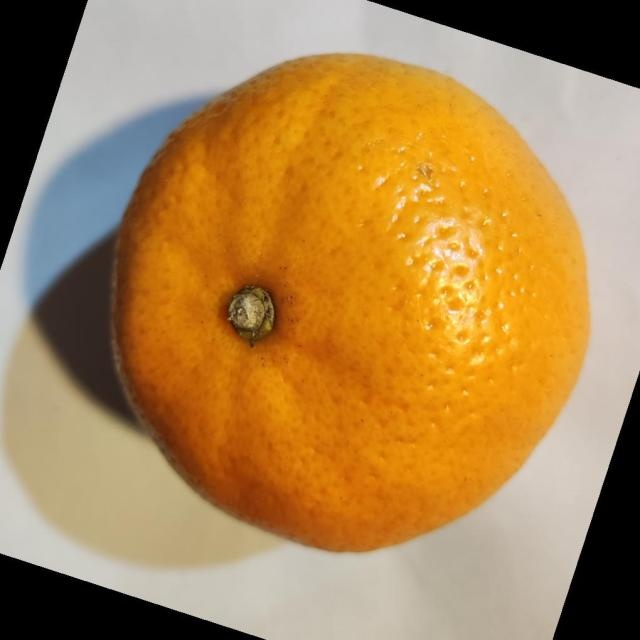agrume: (109, 51, 591, 553)
